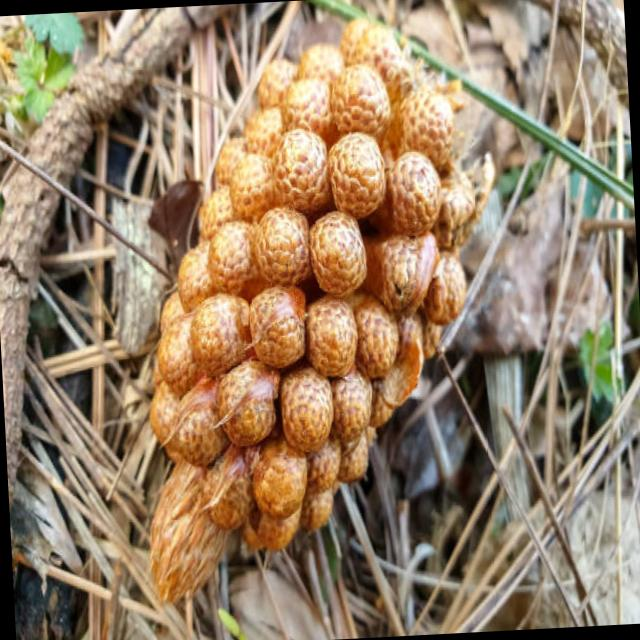Pine: (24, 35, 632, 595), (164, 31, 495, 599)
